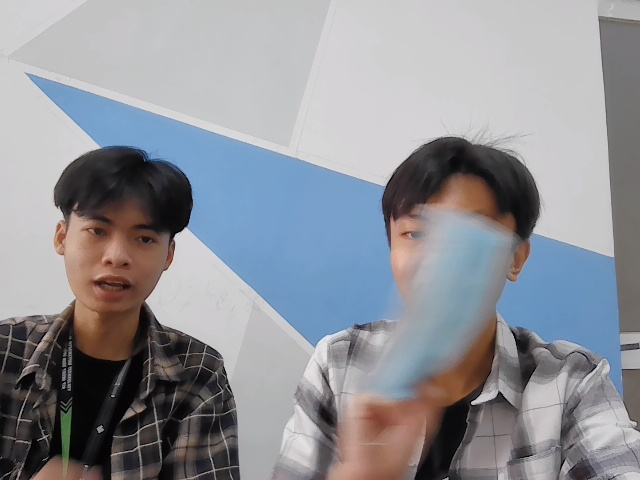human: (53, 143, 195, 316)
